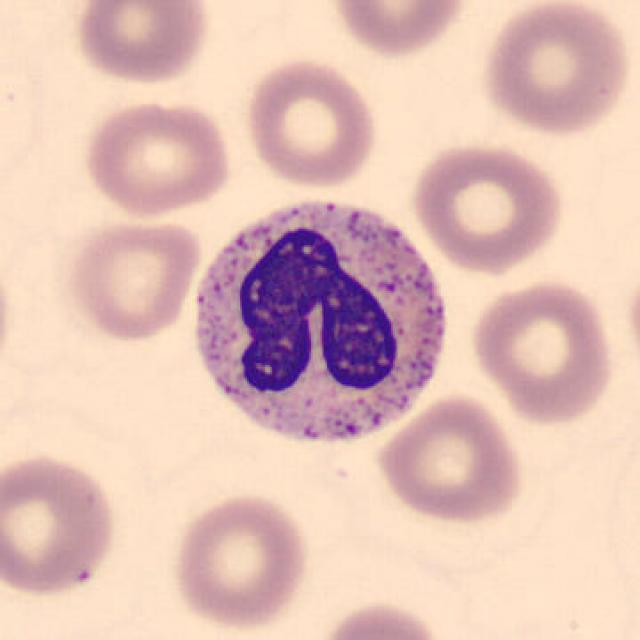Neutrophil: (181, 188, 455, 466)
RBC: (466, 275, 617, 428), (474, 0, 636, 139), (407, 138, 569, 275), (373, 392, 528, 528), (169, 490, 313, 633), (240, 55, 382, 192), (78, 97, 236, 220), (62, 213, 204, 344), (0, 450, 123, 600), (71, 0, 215, 86), (325, 0, 473, 60), (313, 597, 448, 640), (0, 245, 18, 390), (622, 256, 640, 386)
